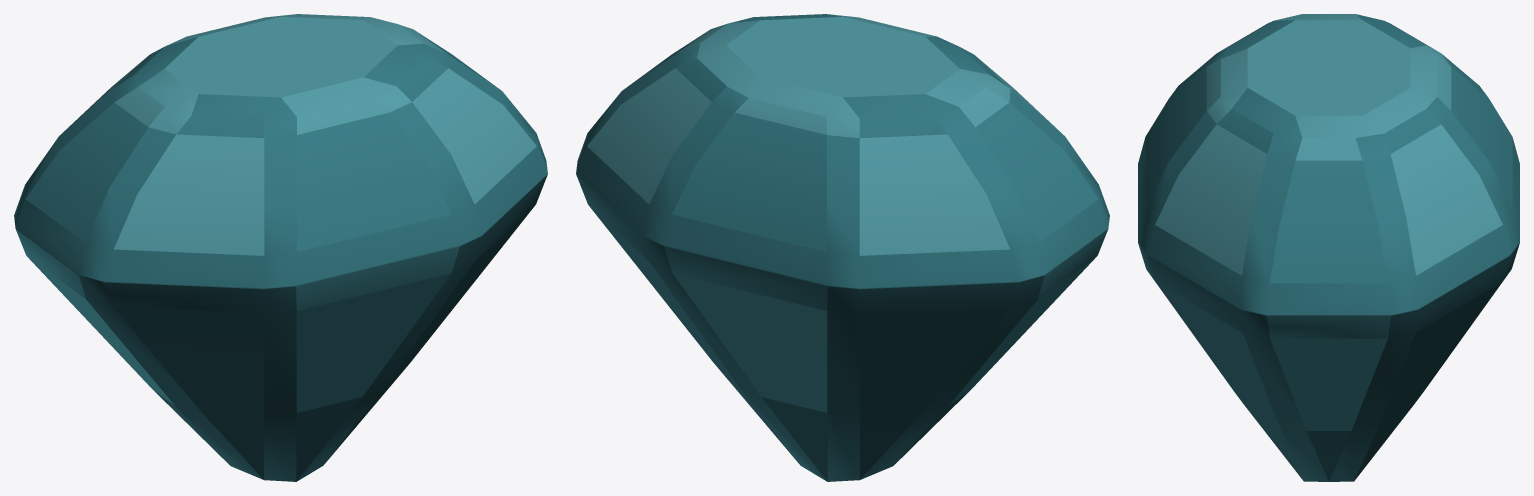
File: Gem_01.glb
3 views of the same model, side by side, from view 1: azimuth 30°, elevation 25°; view 2: azimuth 150°, elevation 25°; view 3: azimuth 270°, elevation 25° (orthographic).
Parts seen in each view (by area): view 1: Gem_01; view 2: Gem_01; view 3: Gem_01.
Part boxes in pixels (x1,y1,x2,y2): Gem_01: [14, 14, 547, 481]; Gem_01: [576, 14, 1109, 481]; Gem_01: [1138, 14, 1519, 481].
Bounding box in the file's own units: 0.9497 × 0.803 × 0.6838.
